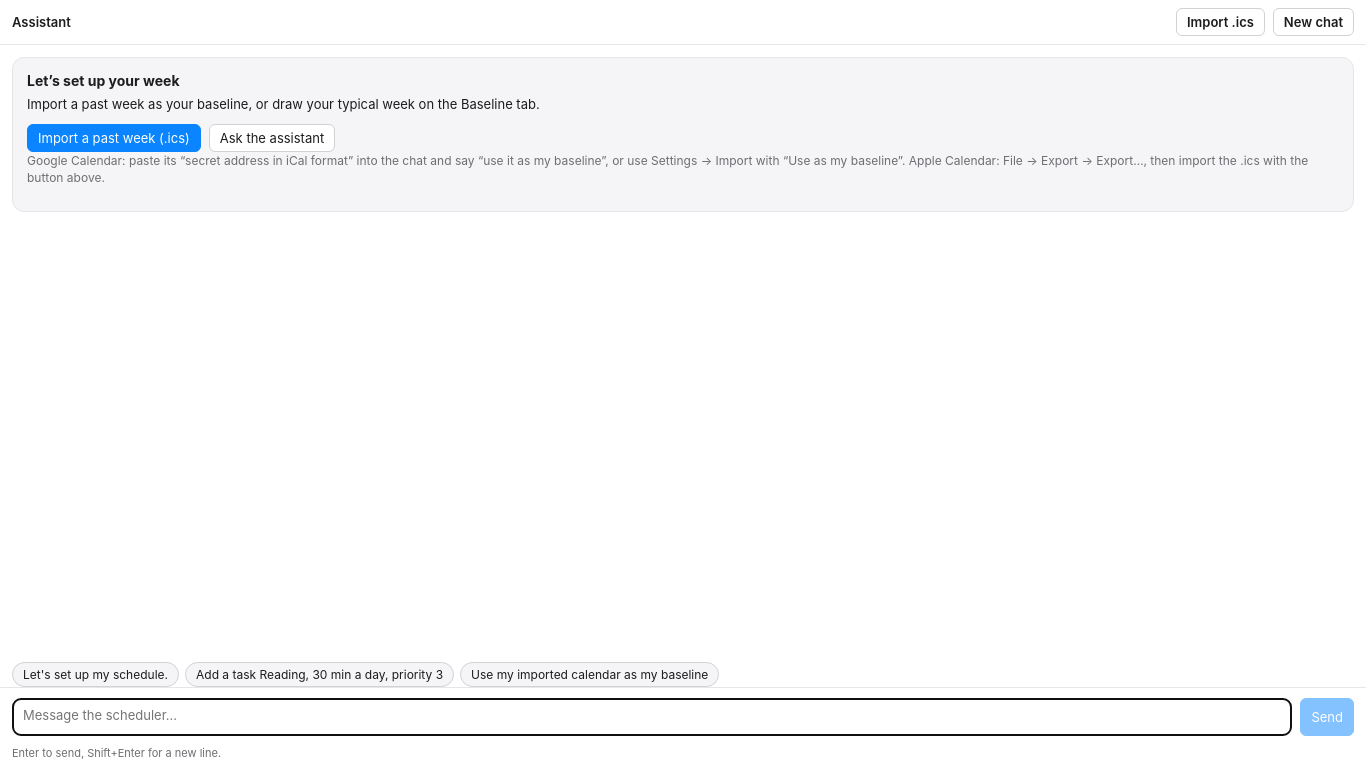
Test: ChatPanel: starter bubbles › the setup card appears only before the first message and its button asks the set-up question
Check: the heading "Let’s set up your week" is shown, box 27,72 -> 180,89
Click the button "Ask the assistant": (272, 138) 209,124 -> 335,152
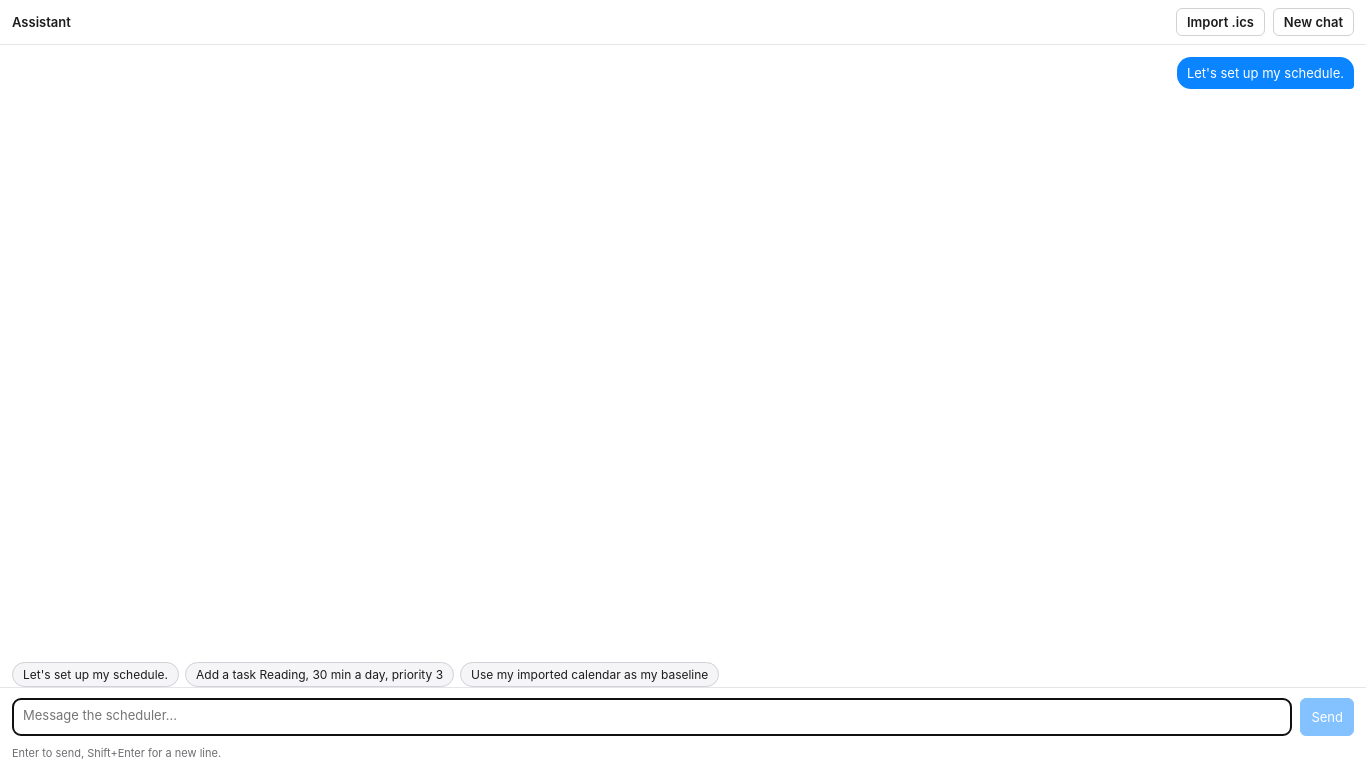
Check: the text "Let's set up my schedule." is shown, box 1187,65 -> 1344,81
Check: the heading "Let’s set up your week" is gone
